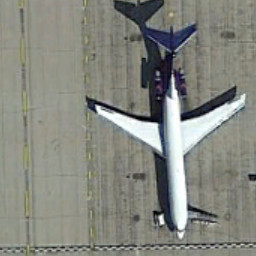Airplane: (84, 17, 252, 249)
